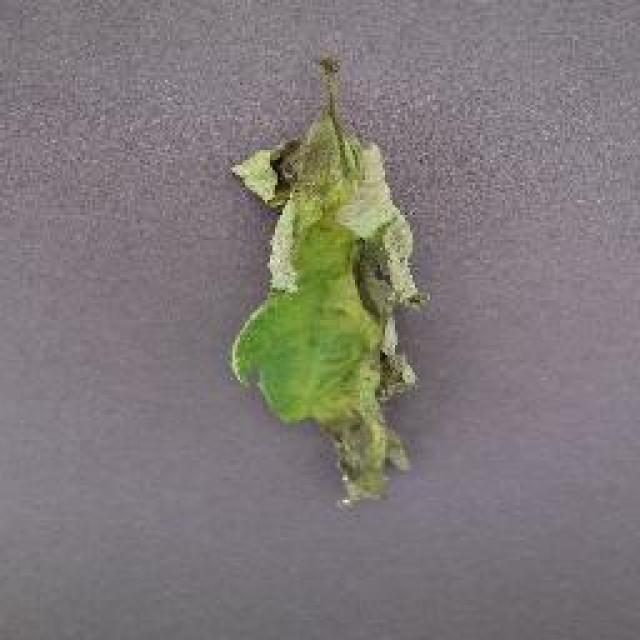Tomato___Late_blight: (230, 58, 422, 502)
